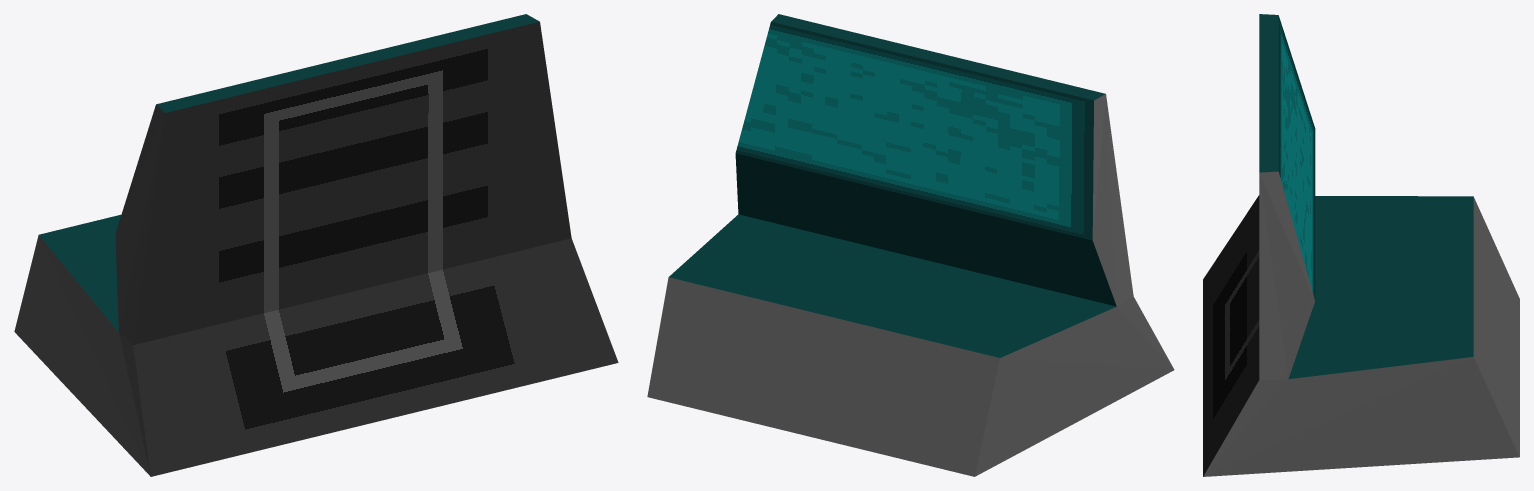
3 views of the same model, side by side, from view 1: azimuth 30°, elevation 25°; view 2: azimuth 150°, elevation 25°; view 3: azimuth 270°, elevation 25° (orthographic). The views are drawn at different scales.
Parts seen in each view (by area): view 1: ss3d_16_couch; view 2: ss3d_16_couch; view 3: ss3d_16_couch.
Part boxes in pixels (box(x1,y1,x2,y2)): ss3d_16_couch: box(14, 14, 618, 476); ss3d_16_couch: box(647, 14, 1174, 476); ss3d_16_couch: box(1203, 14, 1519, 476).
Size of the model in its own units: 0.675 by 0.4535 by 0.457.
Materials: 1 (1 with a texture image).
